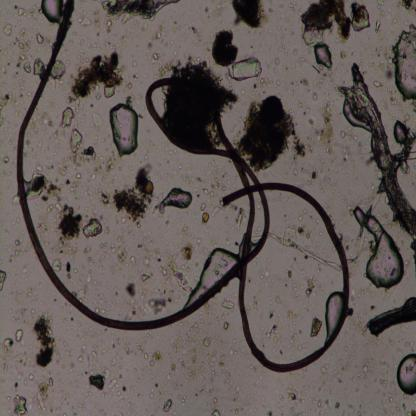Air bubble: (352, 205, 404, 289), (192, 240, 237, 291), (109, 103, 139, 159), (393, 25, 416, 97), (320, 287, 342, 339), (157, 185, 193, 212), (396, 352, 416, 396), (313, 40, 334, 70), (40, 0, 64, 24), (392, 121, 408, 150)
Background material: (163, 62, 240, 146), (238, 93, 306, 168), (66, 51, 126, 106), (168, 334, 220, 390), (111, 162, 155, 223), (298, 1, 352, 45), (47, 200, 83, 245), (30, 311, 57, 367), (83, 240, 130, 267), (0, 326, 25, 374), (29, 372, 56, 414), (230, 1, 270, 29), (130, 233, 158, 272), (212, 27, 238, 69), (229, 56, 267, 84), (70, 129, 97, 166), (89, 154, 118, 188), (318, 102, 336, 156), (195, 169, 228, 198), (24, 170, 48, 206), (187, 306, 216, 334), (87, 367, 117, 394), (9, 284, 32, 319), (285, 308, 303, 352), (13, 35, 32, 75), (56, 338, 77, 374), (360, 40, 382, 74), (322, 172, 343, 205), (351, 3, 374, 33), (115, 385, 137, 416), (273, 76, 310, 94), (376, 100, 400, 124), (221, 336, 247, 358), (7, 236, 26, 266), (158, 252, 178, 280), (109, 27, 132, 51), (171, 267, 192, 293), (302, 274, 320, 302), (32, 209, 48, 240), (315, 359, 330, 392), (49, 61, 68, 87), (131, 332, 151, 356), (77, 270, 92, 302), (382, 42, 394, 82), (148, 296, 172, 316), (305, 113, 317, 153), (219, 363, 236, 391), (228, 200, 245, 228), (81, 218, 104, 238), (128, 298, 149, 319), (180, 221, 201, 242), (314, 397, 343, 412), (176, 20, 200, 38), (84, 199, 104, 220), (55, 375, 69, 405), (314, 67, 334, 88), (10, 89, 26, 115), (178, 161, 194, 187), (202, 4, 225, 22), (0, 89, 10, 130), (350, 314, 367, 338), (265, 324, 282, 348), (198, 204, 220, 222), (11, 392, 28, 415), (143, 348, 161, 368), (256, 266, 272, 288), (34, 112, 52, 131), (66, 173, 82, 194), (48, 180, 64, 201), (286, 386, 304, 404), (357, 284, 376, 301), (60, 106, 74, 128), (93, 3, 101, 41), (0, 40, 13, 63), (361, 359, 374, 382), (258, 74, 274, 92), (26, 116, 42, 134), (379, 356, 392, 378), (309, 316, 322, 338), (150, 24, 165, 43), (57, 158, 72, 177), (243, 395, 256, 416), (26, 286, 41, 304), (18, 6, 37, 20), (180, 244, 194, 263), (332, 362, 343, 386), (77, 12, 91, 30), (50, 255, 63, 274), (345, 287, 358, 306), (254, 365, 265, 387), (249, 288, 260, 310), (374, 0, 386, 20), (75, 344, 88, 362), (52, 127, 60, 156), (33, 58, 45, 77), (197, 39, 213, 53), (34, 30, 47, 47), (295, 47, 307, 65), (94, 303, 109, 317), (221, 297, 236, 311), (126, 88, 141, 102), (401, 401, 415, 416), (91, 112, 104, 128), (121, 339, 134, 355), (386, 90, 398, 107), (125, 280, 137, 297), (396, 0, 416, 10), (121, 214, 132, 232), (150, 385, 163, 400), (99, 188, 110, 205), (348, 127, 359, 144), (381, 390, 394, 404), (273, 43, 288, 55), (0, 268, 7, 293), (149, 51, 162, 64), (117, 229, 129, 243), (36, 136, 48, 150), (56, 310, 68, 324), (292, 280, 300, 301), (64, 260, 72, 280), (372, 18, 382, 34), (0, 63, 10, 79), (220, 320, 232, 333), (162, 146, 176, 157), (2, 22, 13, 36), (1, 169, 12, 183), (44, 154, 54, 169), (177, 390, 189, 402), (402, 340, 414, 352), (76, 51, 88, 63), (380, 30, 392, 42), (209, 392, 218, 408), (143, 41, 151, 59), (130, 70, 141, 83), (231, 390, 241, 404), (124, 77, 134, 91), (162, 399, 172, 413), (208, 407, 223, 416), (401, 160, 412, 172), (408, 97, 416, 113), (284, 272, 292, 288), (292, 408, 308, 416), (88, 41, 100, 51), (25, 135, 33, 150), (317, 153, 325, 168), (400, 15, 410, 27), (139, 272, 151, 282), (142, 21, 150, 36), (309, 170, 319, 182), (251, 79, 259, 94), (267, 307, 276, 320), (33, 161, 43, 172), (162, 218, 173, 228), (90, 350, 99, 362), (1, 153, 10, 165), (372, 80, 384, 89), (304, 230, 314, 240), (118, 372, 128, 382), (161, 158, 171, 168), (277, 392, 286, 403), (143, 151, 152, 162), (79, 35, 87, 47), (392, 10, 398, 26), (233, 384, 245, 392), (234, 404, 242, 416), (292, 166, 300, 178), (255, 223, 262, 236), (188, 56, 201, 63), (403, 257, 412, 267), (277, 293, 283, 308), (10, 193, 18, 204), (25, 88, 33, 99), (104, 224, 112, 235), (232, 236, 240, 247), (259, 396, 267, 407), (340, 130, 348, 141), (339, 49, 346, 61), (353, 407, 362, 416), (265, 408, 275, 416), (110, 354, 118, 364), (404, 113, 412, 123), (223, 236, 230, 247), (99, 347, 108, 355), (310, 92, 319, 100), (134, 222, 142, 231), (266, 39, 272, 51), (380, 380, 388, 389), (94, 132, 100, 143), (260, 310, 266, 321), (246, 362, 254, 370), (137, 113, 145, 121), (286, 2, 294, 10), (303, 106, 310, 115), (298, 225, 305, 234), (391, 338, 397, 348), (392, 405, 402, 411), (274, 56, 280, 66), (71, 408, 78, 416), (369, 302, 377, 309), (131, 60, 138, 68), (302, 208, 310, 215), (290, 29, 296, 38), (256, 202, 262, 211), (314, 216, 320, 225), (266, 59, 272, 68), (240, 86, 245, 96), (67, 39, 74, 46), (245, 28, 253, 34), (169, 39, 175, 47), (13, 2, 18, 11), (165, 173, 170, 182), (358, 141, 363, 150), (296, 214, 302, 221), (370, 186, 376, 193), (72, 28, 78, 35), (298, 103, 306, 108), (251, 44, 256, 51), (344, 148, 349, 155), (278, 24, 282, 32), (289, 108, 295, 113), (69, 315, 74, 321), (128, 164, 133, 170), (344, 345, 348, 352), (61, 411, 66, 416), (343, 158, 347, 164), (174, 50, 178, 55), (268, 8, 273, 12), (364, 272, 366, 278), (166, 43, 167, 47)
Cellulose filter fibre: (342, 67, 416, 235), (266, 232, 342, 270), (348, 189, 383, 261), (99, 0, 180, 25), (367, 306, 416, 338)
Microfibre: (16, 1, 351, 373)
